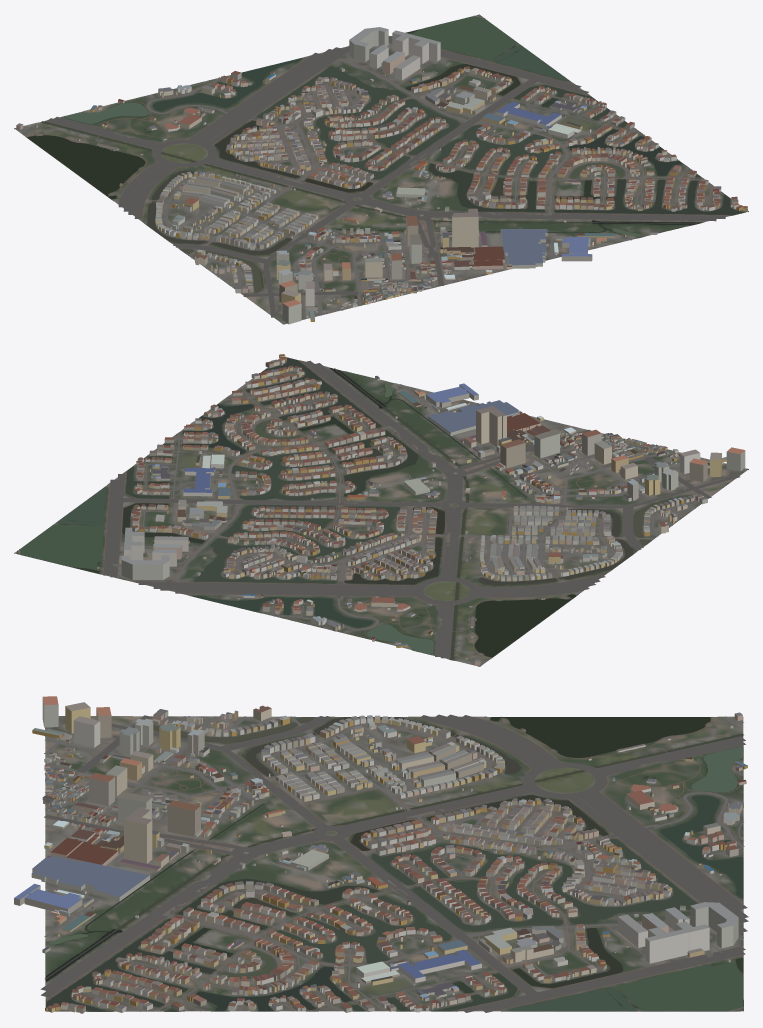
The picture shows the model from 3 angles, top to bottom: view 1: azimuth 30°, elevation 25°; view 2: azimuth 150°, elevation 25°; view 3: azimuth 270°, elevation 25°; orthographic projection. The views are drawn at different scales.
Visible parts, largest first — view 1: buildings, ground, roads, water; view 2: buildings, ground, roads, water; view 3: buildings, ground, roads, water.
Part boxes in pixels (<box>): buildings: <box>16,27,747,324</box>; ground: <box>14,14,748,324</box>; roads: <box>20,15,731,319</box>; water: <box>27,15,745,292</box>; buildings: <box>97,354,745,665</box>; ground: <box>14,360,748,666</box>; roads: <box>19,360,739,664</box>; water: <box>17,357,692,660</box>; buildings: <box>14,696,747,1013</box>; ground: <box>45,716,743,1011</box>; roads: <box>40,714,748,1012</box>; water: <box>45,717,743,1011</box>.
Size of the model in its own units: 1420 by 93.03 by 1475.
